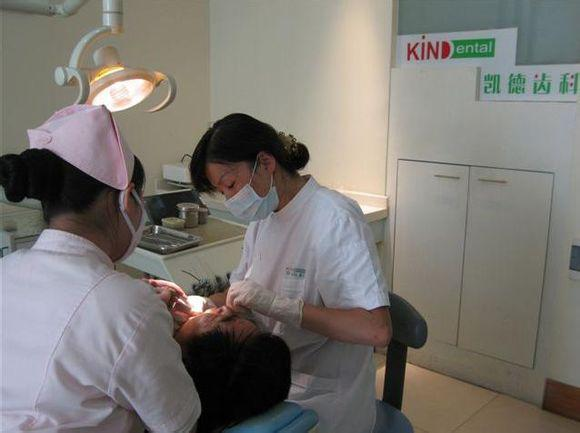OK: (212, 162, 285, 225)
